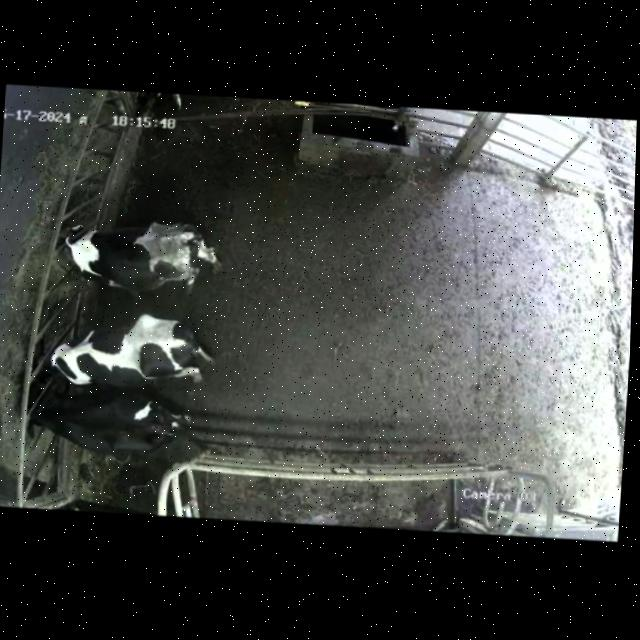eat: (16, 212, 121, 281), (0, 327, 99, 383), (0, 387, 82, 447)
